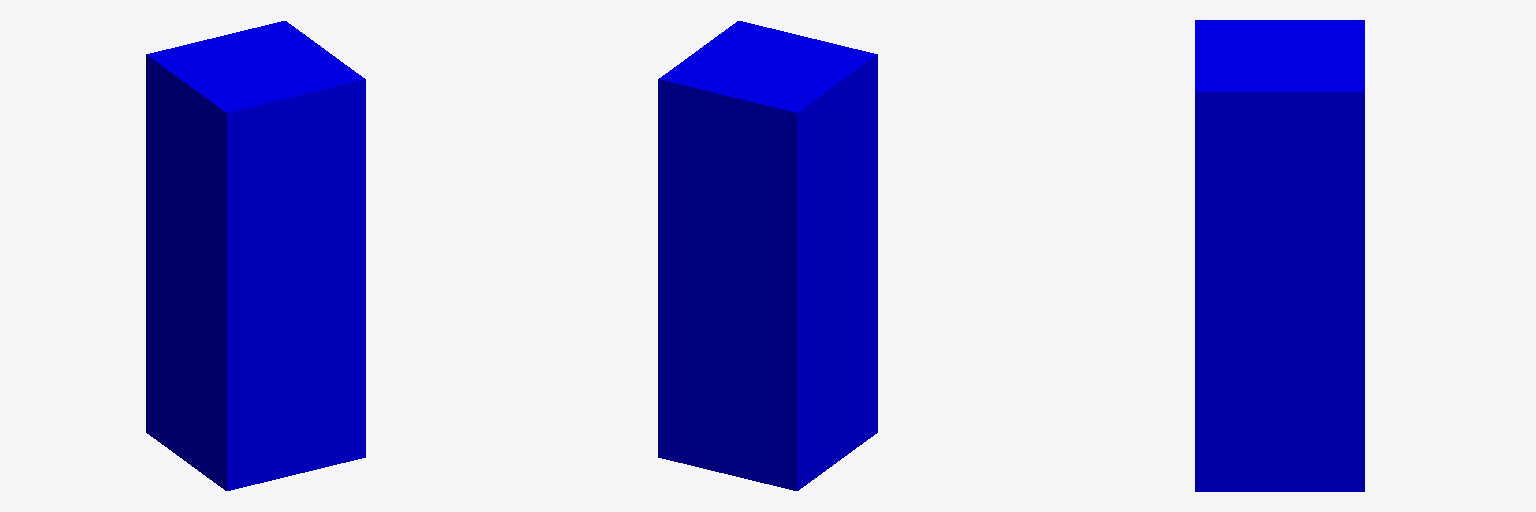
URDF robot description (box2):
<?xml version="1.0"?>
<robot name="box2">
	<link name="base">
	<inertial>
        	 <origin xyz="0 0 0" rpy="0 0 0"/>
        	 <mass value="0.4"/>
        	 <inertia ixx="0.000683333"  ixy="0"  ixz="0" iyy="0.000683333" iyz="0" izz="0.000683333" />
       </inertial>
	<visual>
			<origin xyz="0 0 0" rpy="0 0 0" />
			<geometry>
				<box size="0.0073 0.0073 0.019" />
			</geometry>
			<material>
				<color rgba="0 0 1 1" />
			</material>
	</visual>
  	<collision>
           		<origin xyz="0 0 0" rpy="0 0 0" />
            	<geometry>
			<box size="0.0073 0.0073 0.019" />
            	</geometry>
		<material>
			<color rgba="0 0 1 1" />
		</material>
        </collision>
	</link>
</robot>

--- Facts derived from the render (not from the file) ---
The picture shows the robot from 3 angles, left to right: view 1: azimuth 30°, elevation 25°; view 2: azimuth 150°, elevation 25°; view 3: azimuth 270°, elevation 25°; orthographic projection.
Model box2 with 1 links and 0 joints (none), rooted at base, posed all joints at 0.
Visible links, largest first — view 1: base; view 2: base; view 3: base.
Link boxes in pixels (left/top/right/bottom): base: left=146, top=21, right=365, bottom=490; base: left=658, top=21, right=877, bottom=490; base: left=1195, top=20, right=1364, bottom=491.
Size in the robot's own frame: 0.0073 by 0.0073 by 0.019 metres.
Geometry: primitives only (box / cylinder / sphere), no mesh files.
